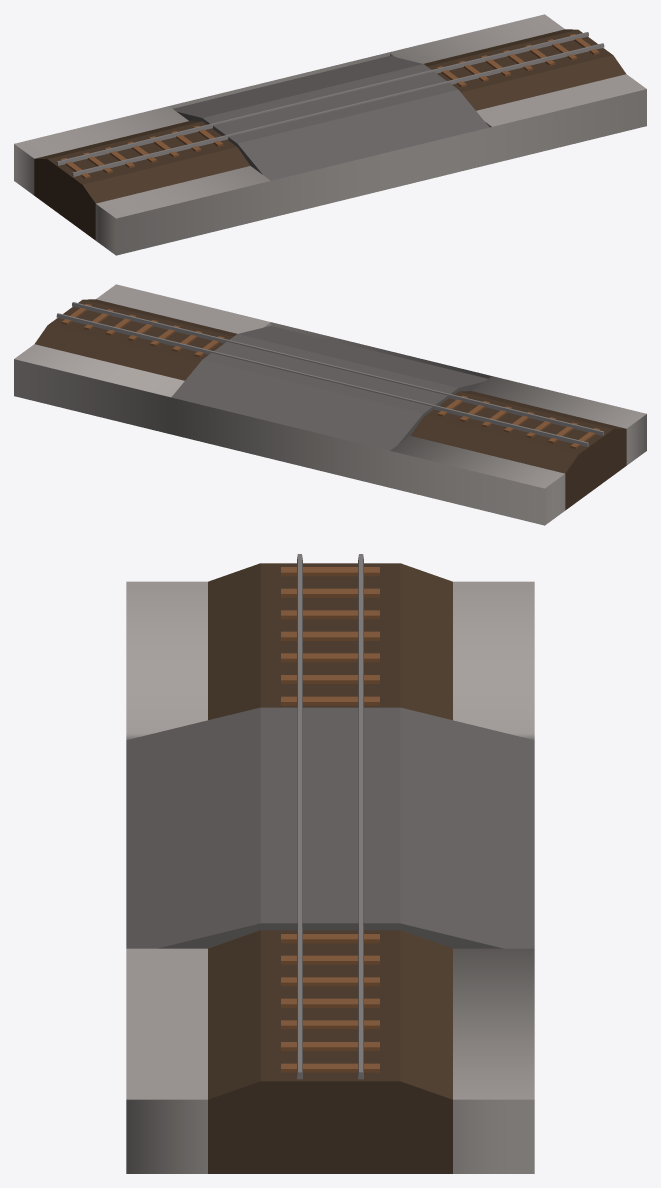
Rendered from RailCross.fbx.
3 views of the same model, one above another, from view 1: azimuth 30°, elevation 25°; view 2: azimuth 150°, elevation 25°; view 3: azimuth 270°, elevation 25° (orthographic). The views are drawn at different scales.
Parts seen in each view (by area): view 1: tile-rail-mainroad-crossing; view 2: tile-rail-mainroad-crossing; view 3: tile-rail-mainroad-crossing.
Part boxes in pixels (x1,y1,x2,y2): tile-rail-mainroad-crossing: (14, 14, 646, 255); tile-rail-mainroad-crossing: (14, 284, 646, 525); tile-rail-mainroad-crossing: (126, 554, 534, 1173).
Bounding box in the file's own units: 3000 × 275 × 1000.
